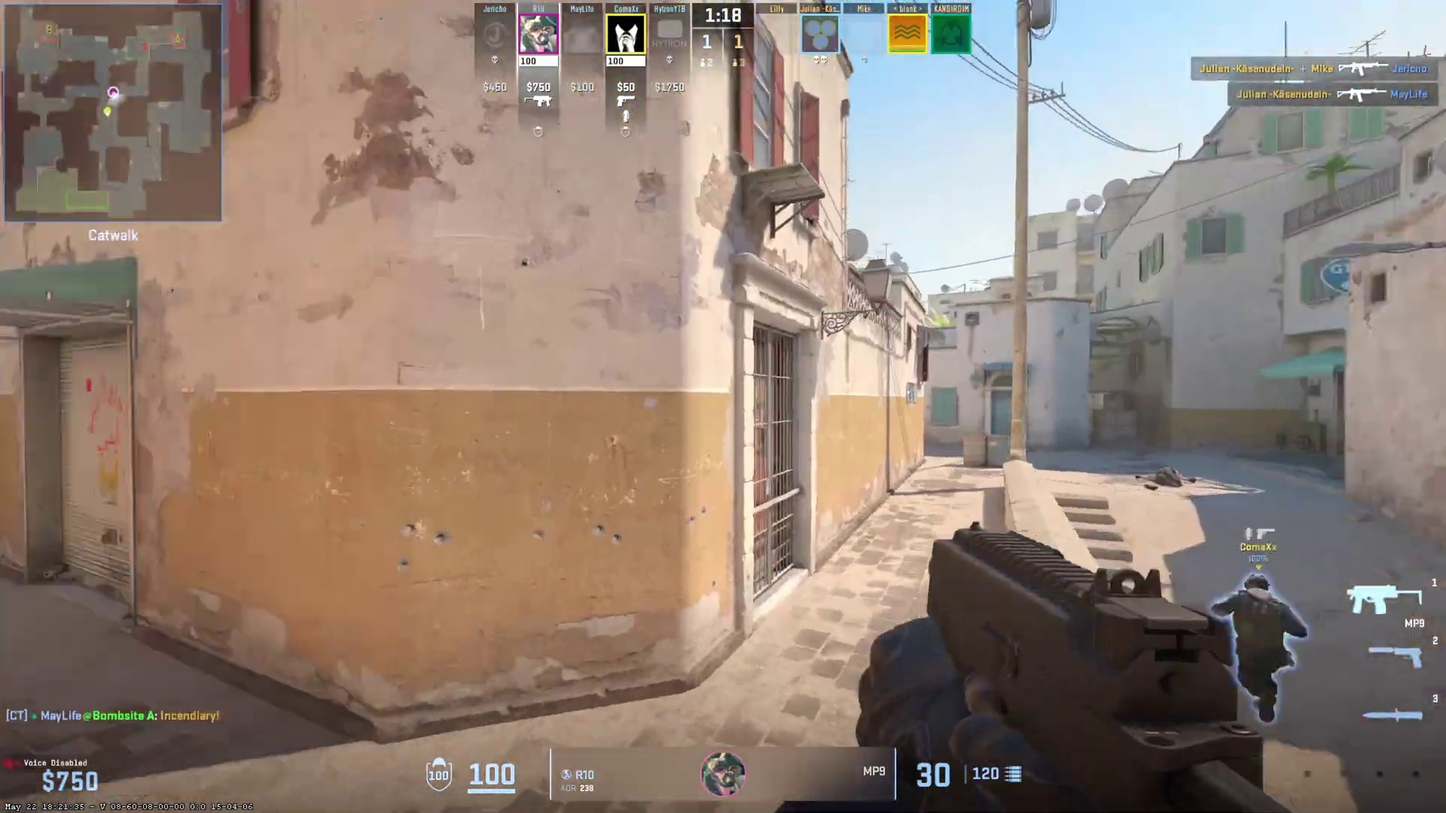CT: (1230, 573, 1292, 723)
